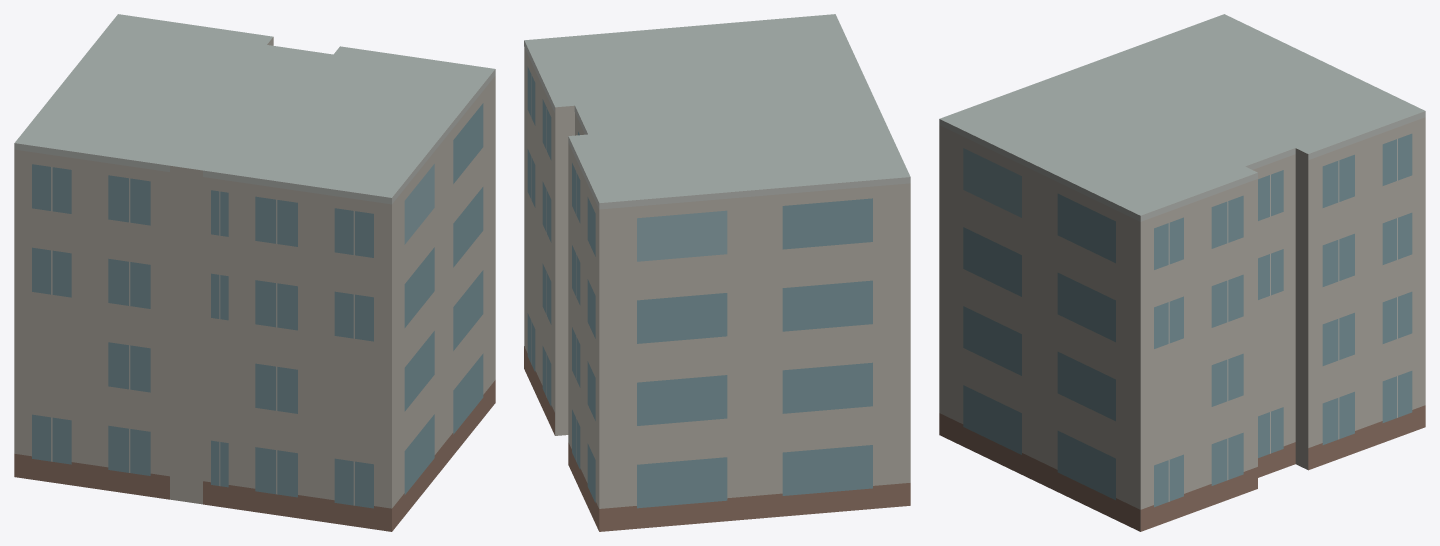
File: survey-upis-33002720.glb
3 views of the same model, side by side, from view 1: azimuth 30°, elevation 25°; view 2: azimuth 150°, elevation 25°; view 3: azimuth 270°, elevation 25° (orthographic). The views are drawn at different scales.
Parts seen in each view (by area): view 1: survey-upis-33002720.tmp; view 2: survey-upis-33002720.tmp; view 3: survey-upis-33002720.tmp.
Part boxes in pixels (<box>): survey-upis-33002720.tmp: <box>14,14,495,531</box>; survey-upis-33002720.tmp: <box>524,14,910,531</box>; survey-upis-33002720.tmp: <box>939,14,1425,531</box>.
Size of the model in its own units: 17.26 by 12.6 by 17.58.
